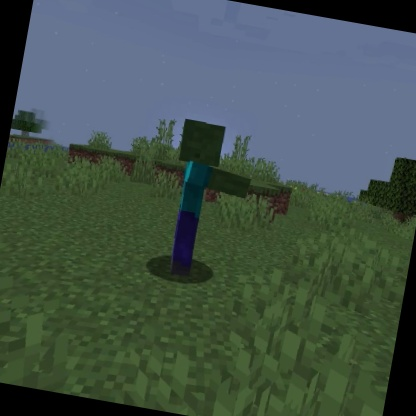zombie: (152, 115, 265, 289)
